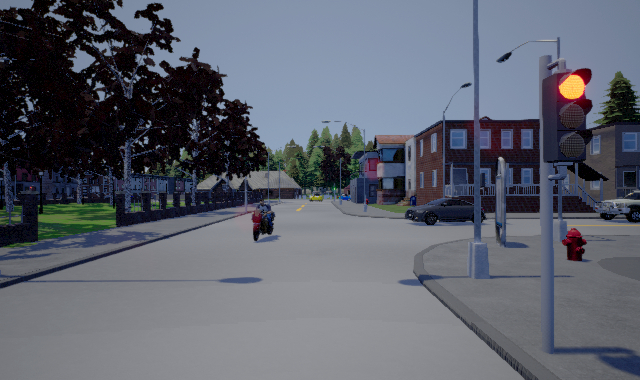motobike: (251, 199, 276, 242)
traffic_light: (542, 66, 593, 163)
vehicle: (405, 198, 486, 225), (595, 189, 640, 223), (308, 192, 322, 203)
